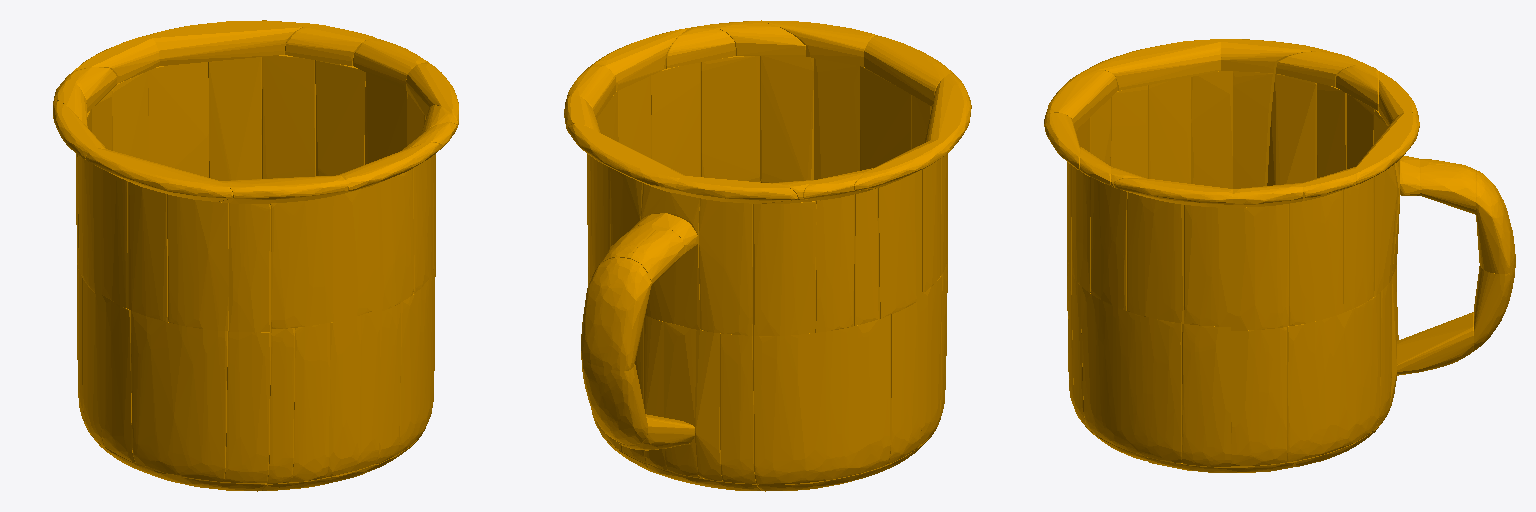
URDF robot description (025_mug.urdf):
<?xml version="1.0" ?>
<robot name="025_mug.urdf">
	<link name="baseLink">
		<inertial>
			<origin rpy="0 0 0" xyz="0 0 0"/>
				<mass value="0.1"/>
				<inertia ixx="6e-4" ixy="0" ixz="0" iyy="6e-4" iyz="0" izz="6e-4"/>
		</inertial>
		<visual>
			<origin rpy="0 0 0" xyz="0 0 0"/>
			<geometry>
				<mesh filename="decomFine_centered_textured.obj" scale="1 1 1"/>
			</geometry>
			<!-- <material>
				<color rgba="0.98 0.84 0.35 1"/>
			</material> -->
		</visual>
		<collision>
			<origin rpy="0 0 0" xyz="0 0 0"/>
			<geometry>
				<mesh filename="decomFine_centered_textured.obj" scale="1 1 1"/>
			</geometry>
		</collision>
	</link>
</robot>

--- What the picture shows (computed from the rendered views, not written in the file) ---
Views: 3 orthographic renders of the robot side by side, from view 1: azimuth 30°, elevation 25°; view 2: azimuth 150°, elevation 25°; view 3: azimuth 270°, elevation 25°.
Robot: 025_mug.urdf — 1 links, 0 joints (none); root link baseLink; default pose: every joint at zero.
Visible links, largest first — view 1: baseLink; view 2: baseLink; view 3: baseLink.
Link boxes in pixels (bbox=[...]): baseLink: bbox=[53, 20, 458, 491]; baseLink: bbox=[564, 20, 971, 491]; baseLink: bbox=[1044, 39, 1515, 472].
Bounding box of the posed robot: 0.0934 × 0.1172 × 0.0815 m (x, y, z).
Meshes: 1 distinct files referenced, 1 mesh visuals loaded (1 OBJ).